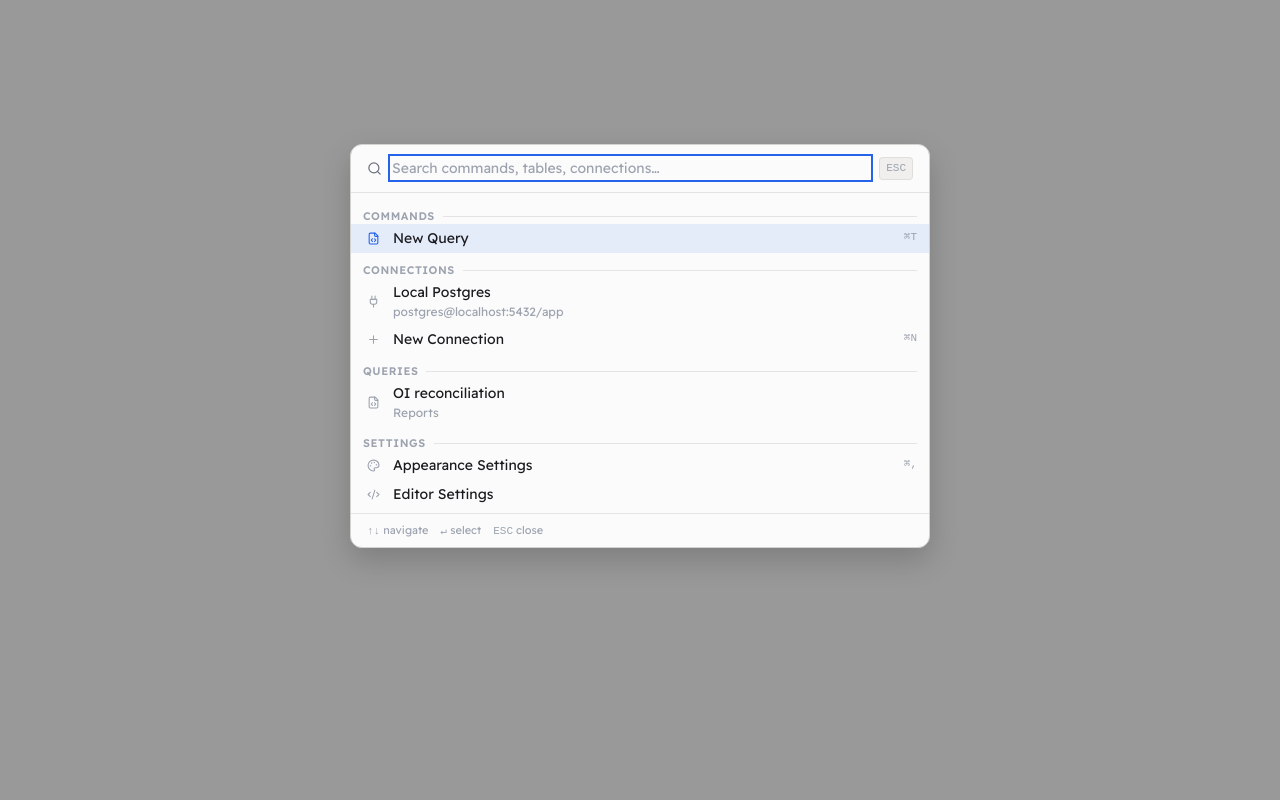
Scenario: fuzzy matching › offers escape hatches when nothing matches
The width and height of the screenshot is (1280, 800).
Type "zzzz" into the field labelled "Search commands, tables, connections" at [631, 168], box [392,158,869,178]
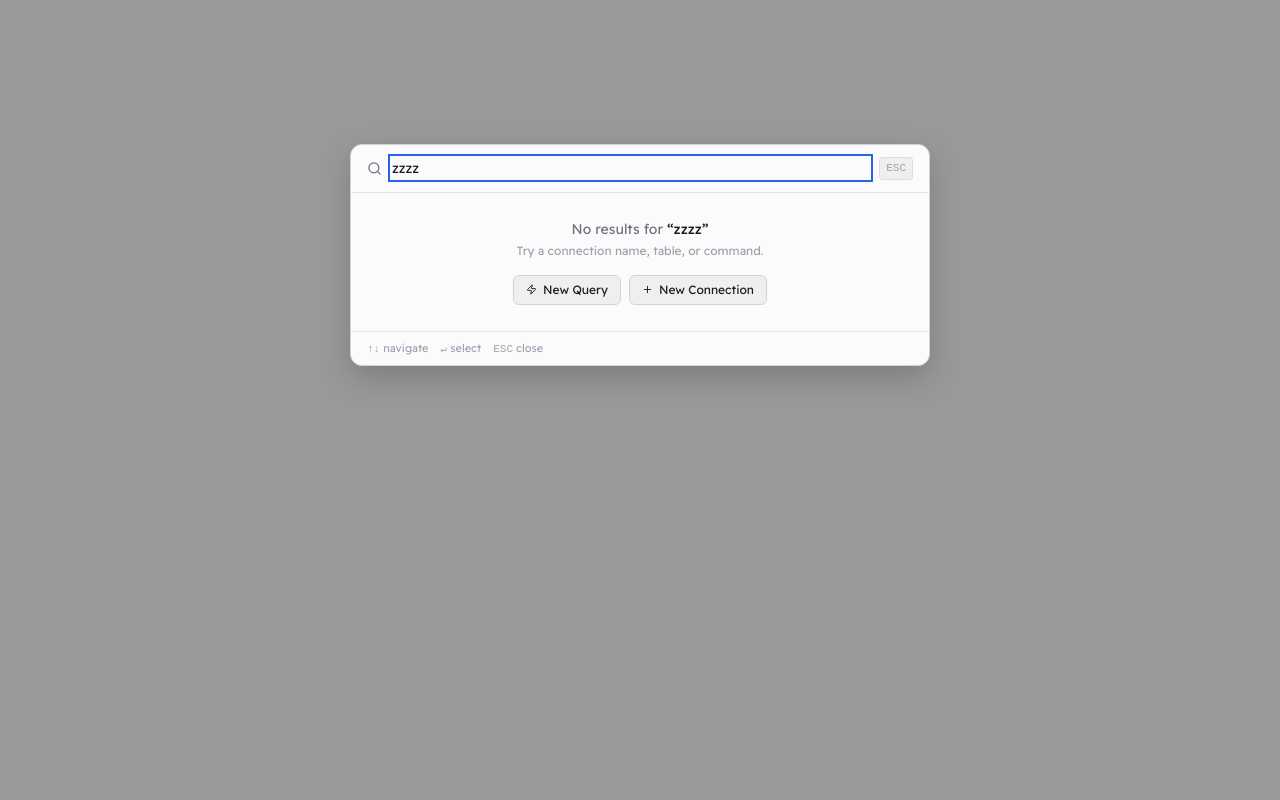
Expected: the button "New Query" is shown, [513,274,621,304]
Expected: the text "No results for “zzzz”" is shown, [572,220,708,238]
